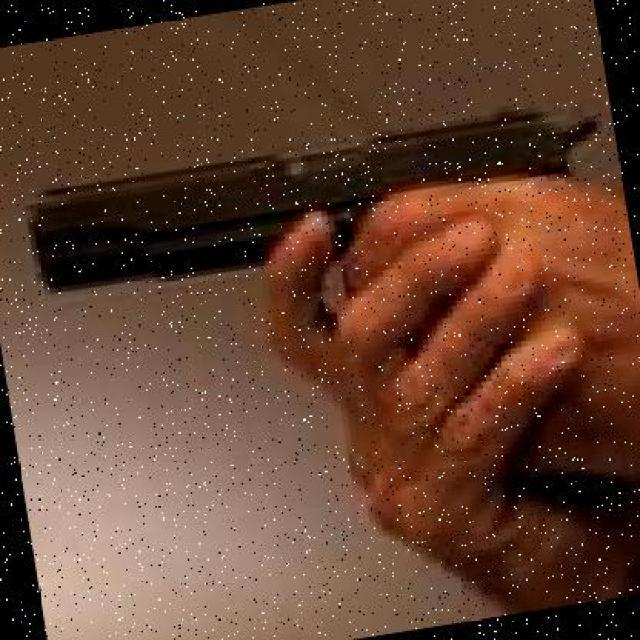rifle: (24, 108, 600, 294)
